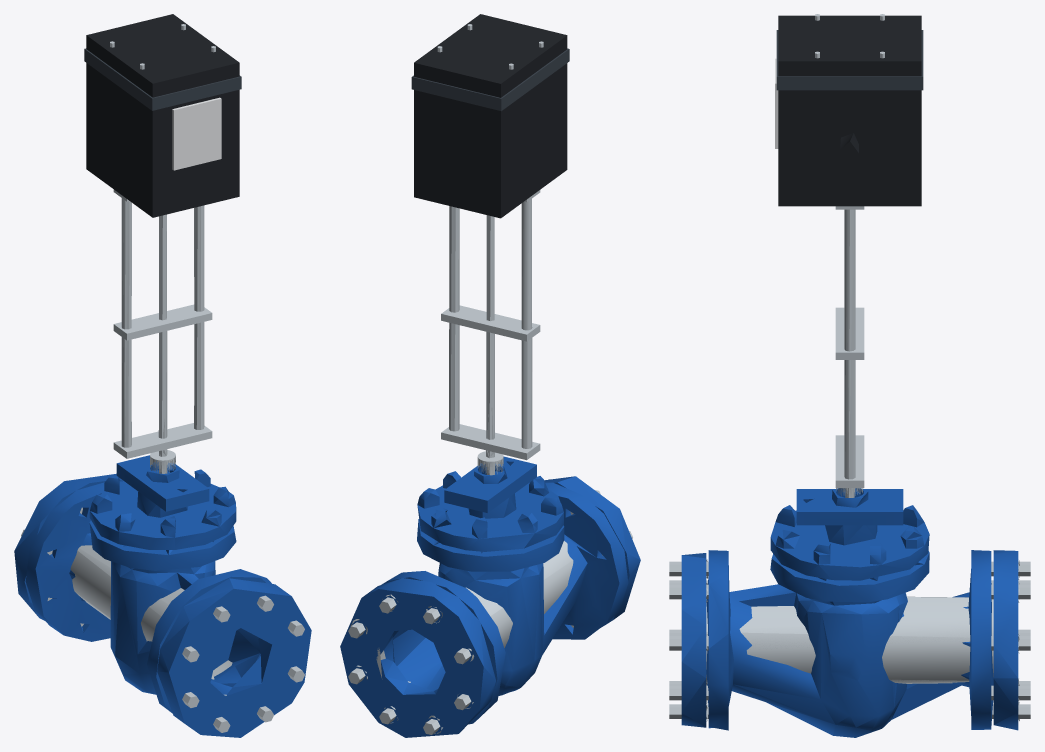
File: gpz.glb
The picture shows the model from 3 angles, left to right: view 1: azimuth 30°, elevation 25°; view 2: azimuth 150°, elevation 25°; view 3: azimuth 270°, elevation 25°; orthographic projection. The views are drawn at different scales.
Visible parts, largest first — view 1: gpz, gpz_drive, gpz_bypass; view 2: gpz, gpz_drive, gpz_bypass; view 3: gpz, gpz_drive, gpz_bypass.
Part boxes in pixels (x1=…): gpz: x1=14, y1=419, x2=311, y2=737; gpz_drive: x1=84, y1=14, x2=241, y2=473; gpz_bypass: x1=70, y1=545, x2=232, y2=695; gpz: x1=340, y1=408, x2=640, y2=737; gpz_drive: x1=411, y1=14, x2=569, y2=475; gpz_bypass: x1=376, y1=541, x2=573, y2=682; gpz: x1=669, y1=488, x2=1030, y2=737; gpz_drive: x1=775, y1=14, x2=923, y2=497; gpz_bypass: x1=706, y1=596, x2=993, y2=685.
Size of the model in its own units: 0.22 by 0.94 by 0.44.
